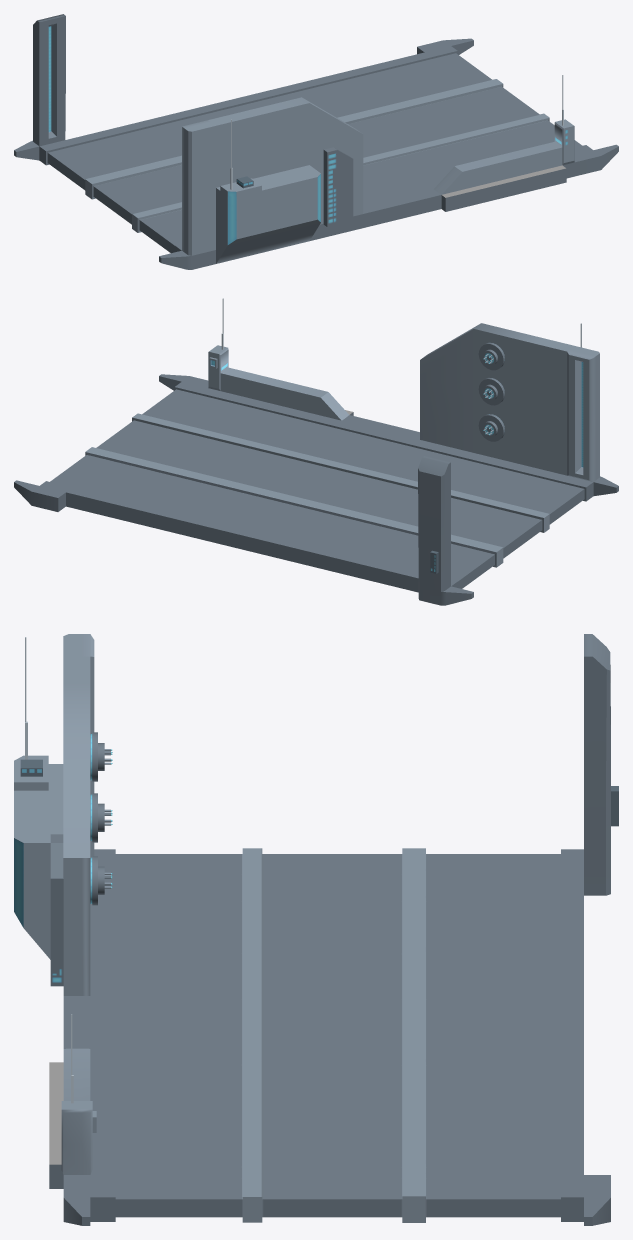
The model's file is diode.fbx.
3 renders of one model, top to bottom at view 1: azimuth 30°, elevation 25°; view 2: azimuth 150°, elevation 25°; view 3: azimuth 270°, elevation 25°, orthographic. The views are drawn at different scales.
Parts seen in each view (by area): view 1: diode, pCube1; view 2: diode; view 3: diode, pCube1.
Boxes of the visible parts, bbox=[...] form: diode: bbox=[14, 14, 618, 269]; pCube1: bbox=[323, 147, 353, 227]; diode: bbox=[14, 323, 618, 605]; diode: bbox=[14, 634, 610, 1225]; pCube1: bbox=[50, 834, 63, 986].
Size of the model in its own units: 5.92 by 1.88 by 3.91.
